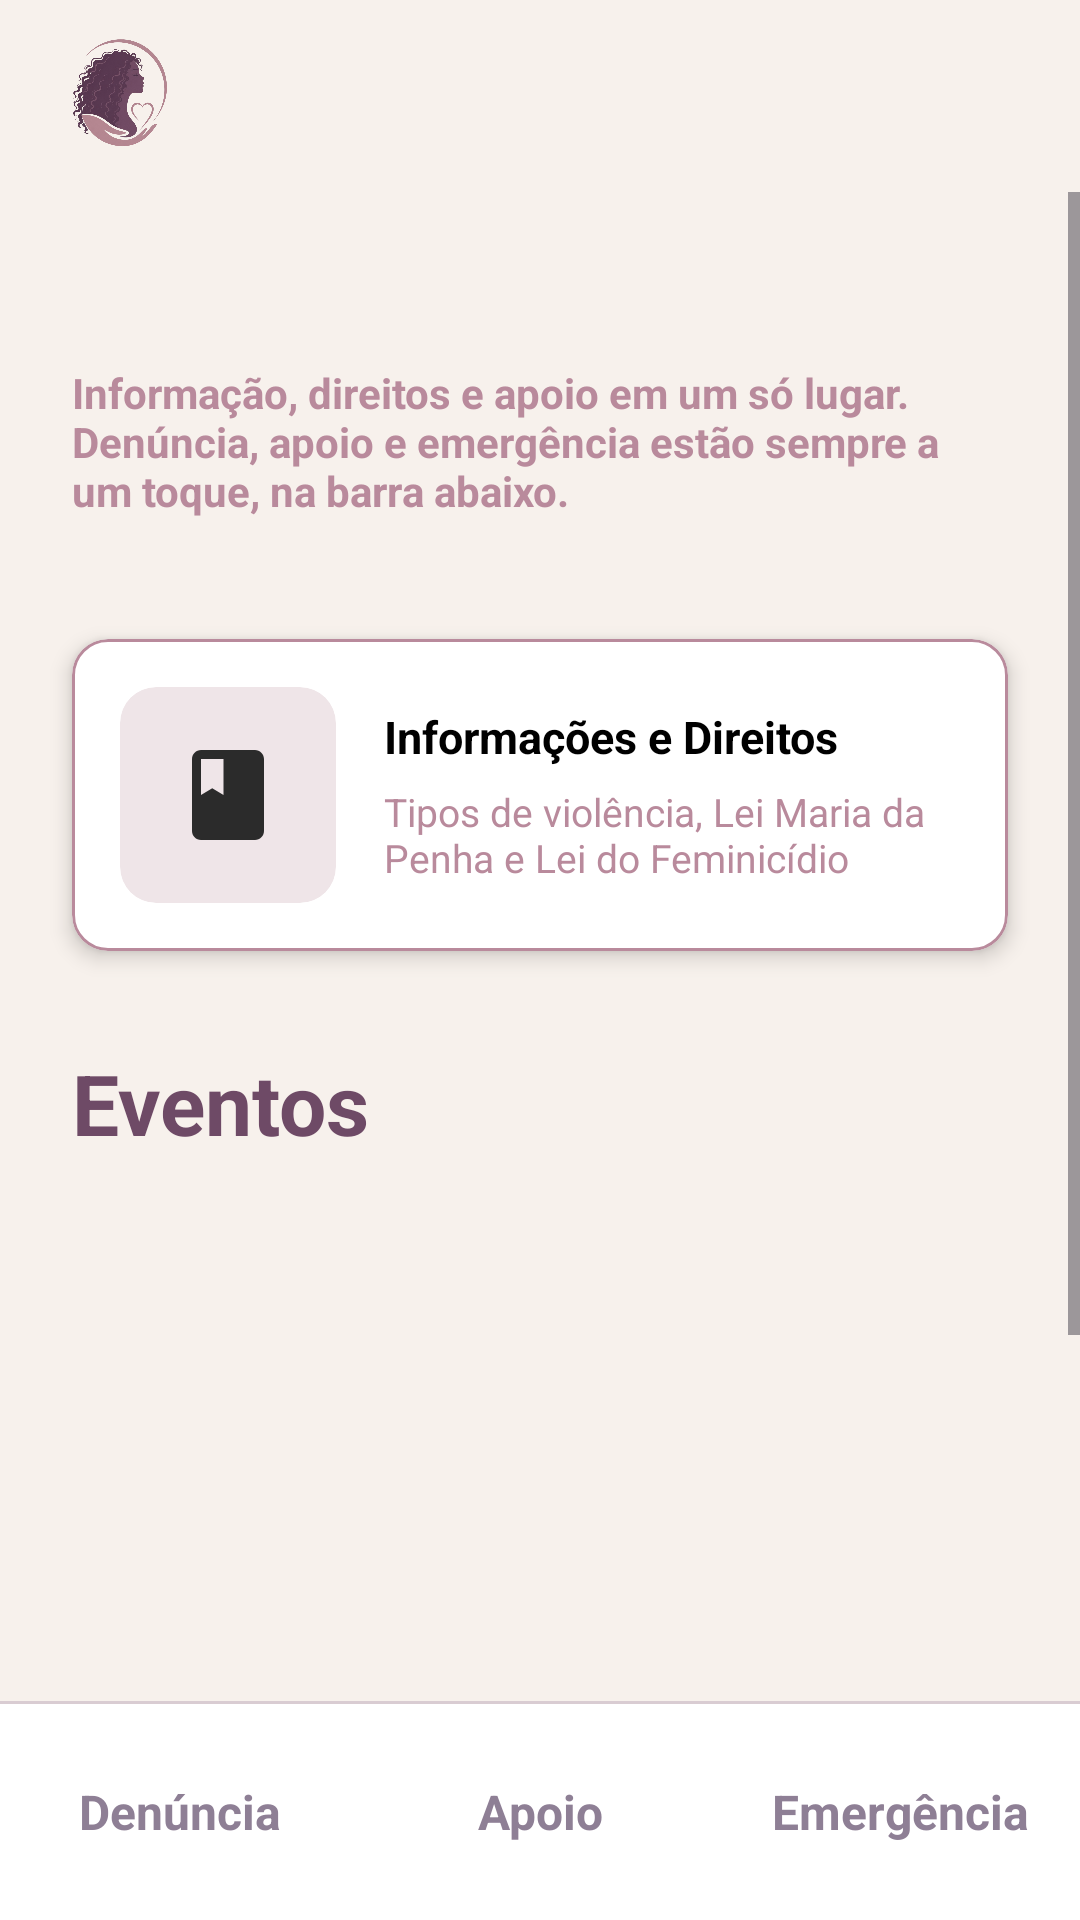

Icon bounding boxes for this 1080×1920 phone screenshot, format (x1, y1, x2, y2):
book: (192, 750, 264, 840)
